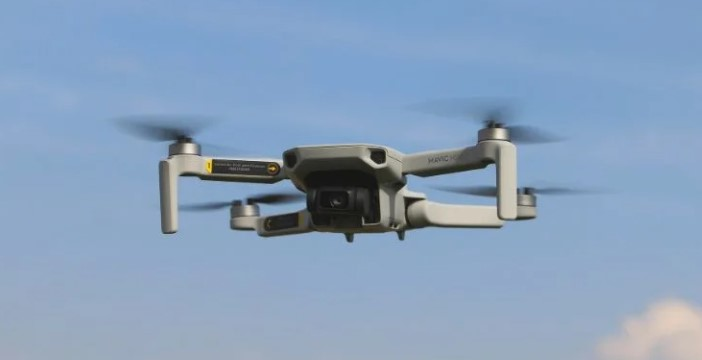drone: (122, 97, 583, 243)
